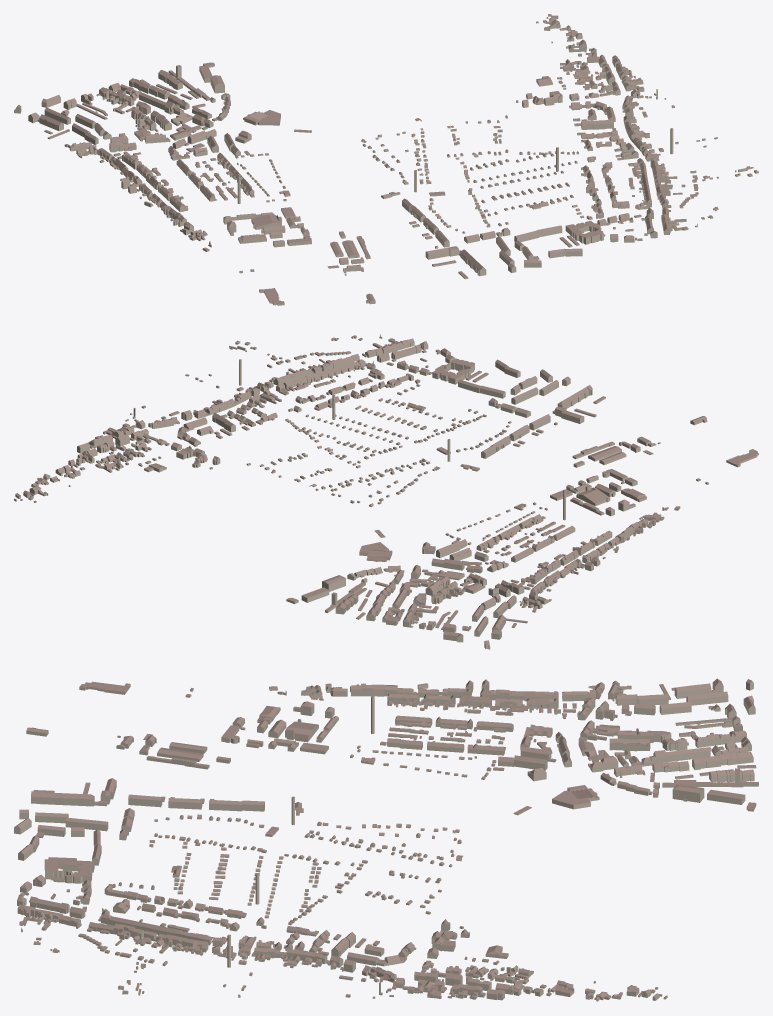
The picture shows the model from 3 angles, top to bottom: view 1: azimuth 30°, elevation 25°; view 2: azimuth 150°, elevation 25°; view 3: azimuth 270°, elevation 25°; orthographic projection. The views are drawn at different scales.
Visible parts, largest first — view 1: LoD2_32_322_5670_1_NW; view 2: LoD2_32_322_5670_1_NW; view 3: LoD2_32_322_5670_1_NW.
Boxes of the visible parts, x1,y1,x2,y2 form: LoD2_32_322_5670_1_NW: (14, 14, 758, 305); LoD2_32_322_5670_1_NW: (14, 334, 758, 649); LoD2_32_322_5670_1_NW: (14, 678, 758, 1001).
Size of the model in its own units: 1019 by 58.26 by 1014.
